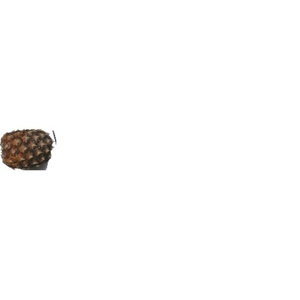abacaxi: (1, 125, 58, 178)
